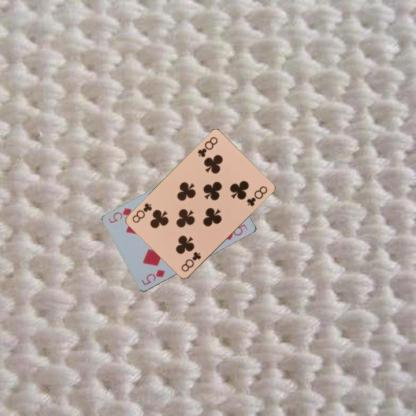5d: (139, 267, 166, 287)
8c: (195, 134, 219, 159), (179, 249, 202, 273)
